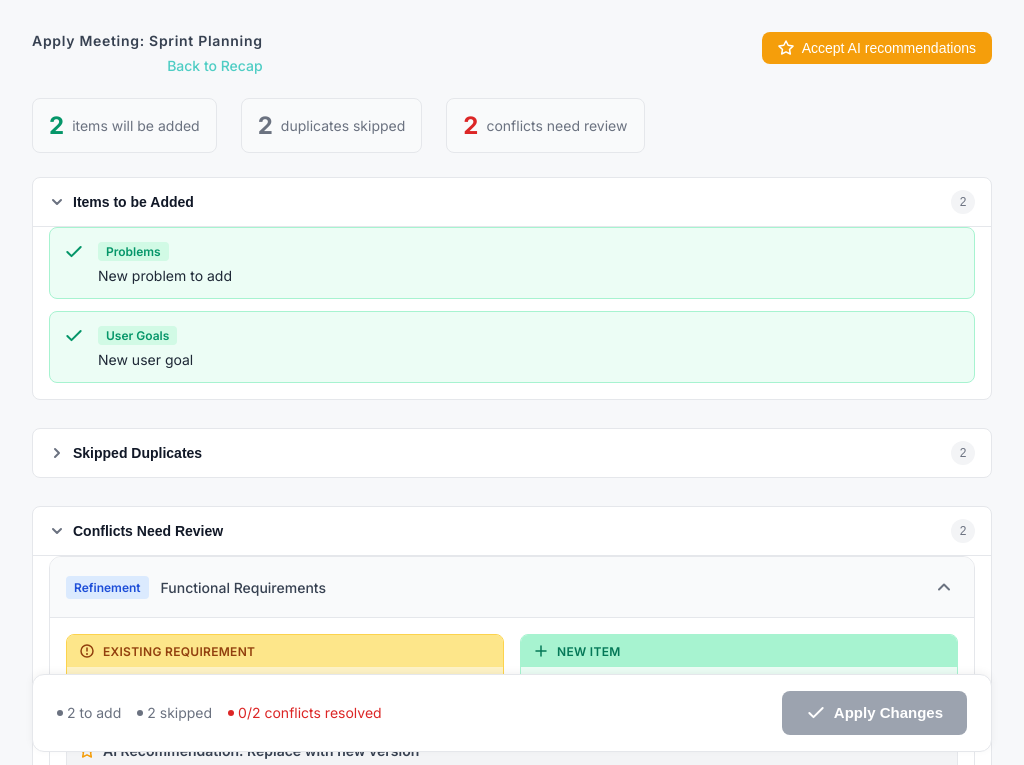
ConflictResolverPage › BulkActions Button Behavior › sets all resolutions to AI recommended when bulk action clicked
Click the button "Accept AI recommendations".
click(877, 48)  # box [762,32,992,64]
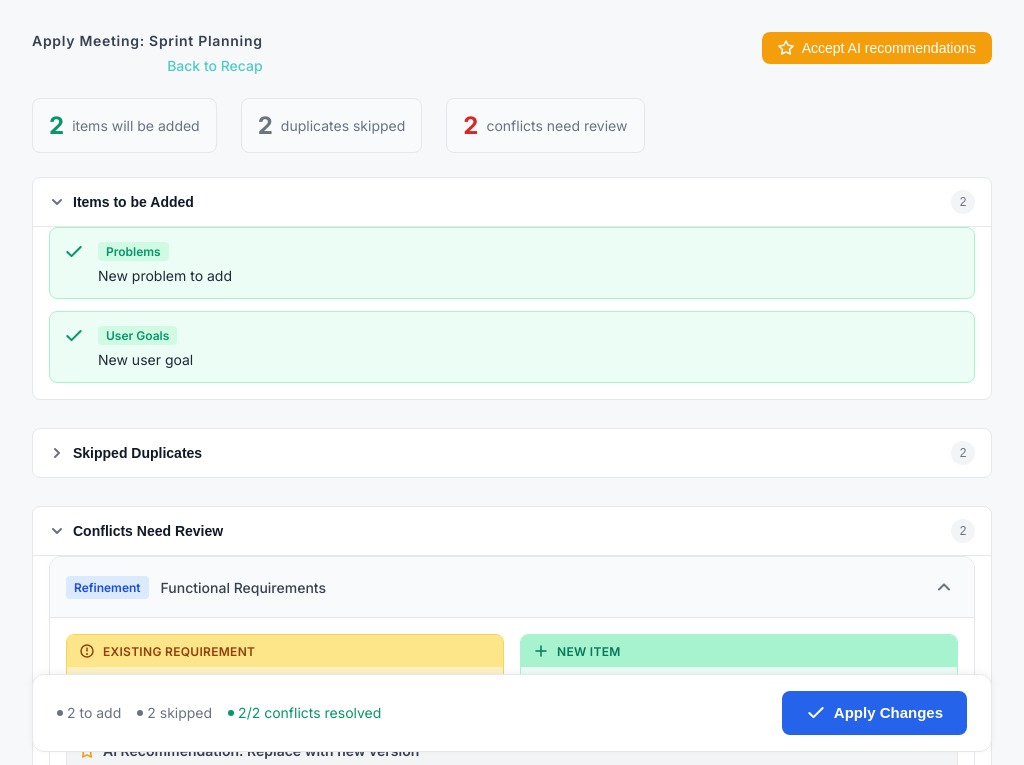
Check: the button "Apply Changes" is enabled, box [782,691,967,735]
Check: the text "2/2 conflicts resolved" is shown, box [228,704,381,722]
